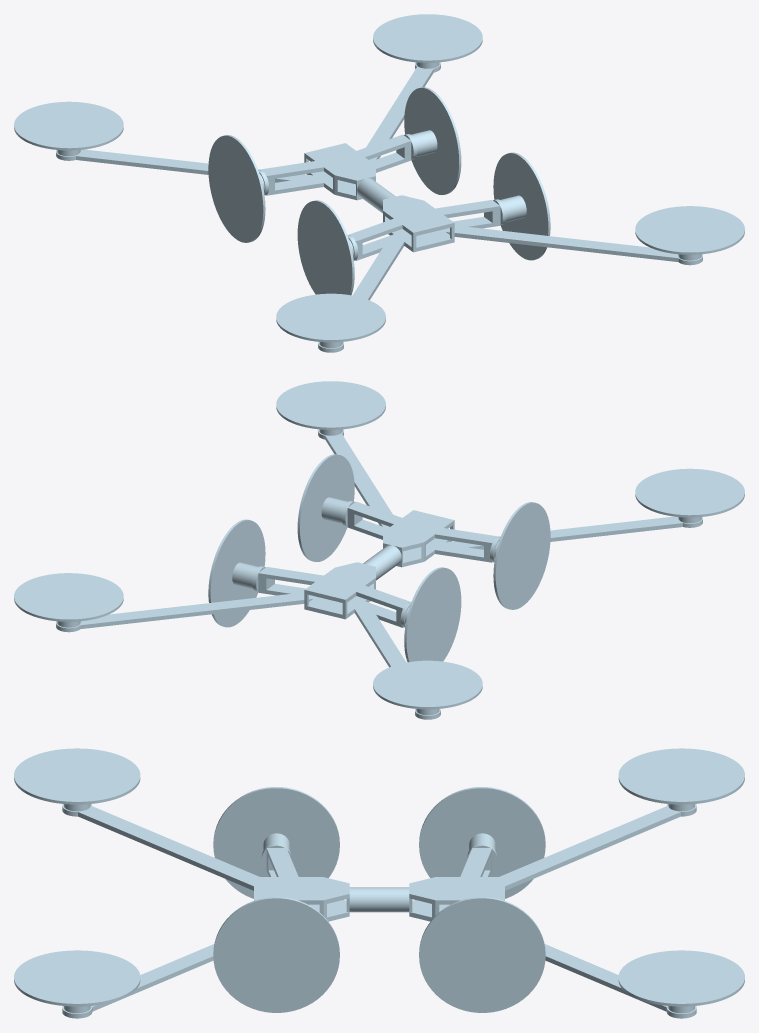
The model's file is Assembly 1.gltf.
3 renders of one model, top to bottom at view 1: azimuth 30°, elevation 25°; view 2: azimuth 150°, elevation 25°; view 3: azimuth 270°, elevation 25°, orthographic. The views are drawn at different scales.
Parts seen in each view (by area): view 1: Part 1 (×9); view 2: Part 1 (×9); view 3: Part 1 (×11).
Boxes of the visible parts, x1,y1,x2,y2 form: Part 1 (×9): (14, 14, 744, 352); Part 1 (×9): (14, 381, 744, 719); Part 1 (×11): (14, 748, 744, 1018).
Size of the model in its own units: 0.6063 by 0.1268 by 0.733.
